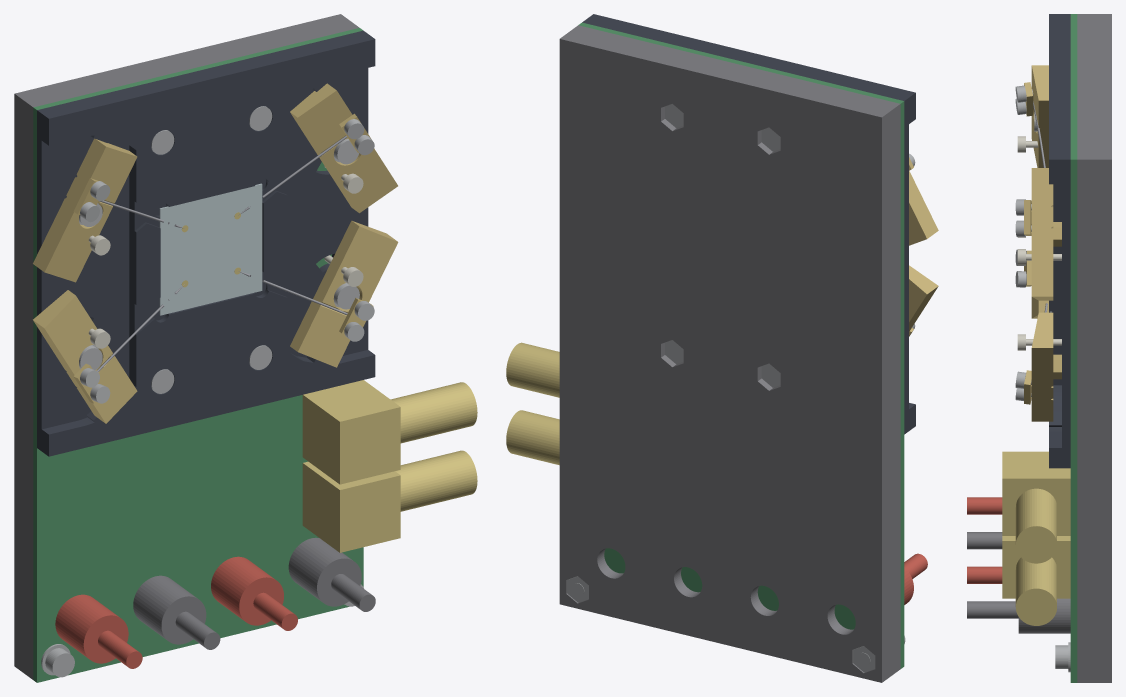
Rendered from T2P-P-measuring.glb.
The picture shows the model from 3 angles, left to right: view 1: azimuth 30°, elevation 25°; view 2: azimuth 150°, elevation 25°; view 3: azimuth 270°, elevation 25°; orthographic projection. The views are drawn at different scales.
Visible parts, largest first — view 1: p002, p001, p000, p017, p007, p016, p062, p052, p032, p042, p012, p013 (+2 smaller); view 2: p000, p002, p001, p016, p017, p052, p042, p012; view 3: p000, p002, p017, p001, p016, p032, p062, p015, p052, p012, p013, p014 (+7 smaller).
Part boxes in pixels (x1=…): p002: x1=37, y1=30, x2=375, y2=456; p001: x1=33, y1=28, x2=363, y2=682; p000: x1=14, y1=14, x2=359, y2=679; p017: x1=302, y1=380, x2=477, y2=484; p007: x1=159, y1=183, x2=262, y2=315; p016: x1=302, y1=450, x2=477, y2=552; p062: x1=290, y1=220, x2=398, y2=367; p052: x1=33, y1=138, x2=137, y2=282; p032: x1=290, y1=83, x2=397, y2=213; p042: x1=33, y1=290, x2=137, y2=423; p012: x1=55, y1=594, x2=142, y2=668; p013: x1=133, y1=575, x2=220, y2=649; p000: x1=559, y1=25, x2=900, y2=682; p002: x1=582, y1=14, x2=915, y2=434; p001: x1=578, y1=22, x2=904, y2=668; p016: x1=506, y1=410, x2=559, y2=465; p017: x1=506, y1=342, x2=559, y2=397; p052: x1=909, y1=170, x2=938, y2=245; p042: x1=909, y1=265, x2=938, y2=331; p012: x1=904, y1=553, x2=927, y2=604; p000: x1=1077, y1=14, x2=1111, y2=682; p002: x1=1049, y1=14, x2=1070, y2=468; p017: x1=1002, y1=451, x2=1070, y2=563; p001: x1=1070, y1=14, x2=1077, y2=682; p016: x1=1002, y1=536, x2=1070, y2=625; p032: x1=1031, y1=168, x2=1053, y2=300; p062: x1=1031, y1=312, x2=1053, y2=421; p015: x1=967, y1=598, x2=1070, y2=633; p052: x1=1031, y1=65, x2=1048, y2=167; p012: x1=967, y1=497, x2=1002, y2=514; p013: x1=967, y1=532, x2=1002, y2=549; p014: x1=967, y1=566, x2=1002, y2=583.
Bounding box in the file's own units: 104 × 134 × 33.6.
